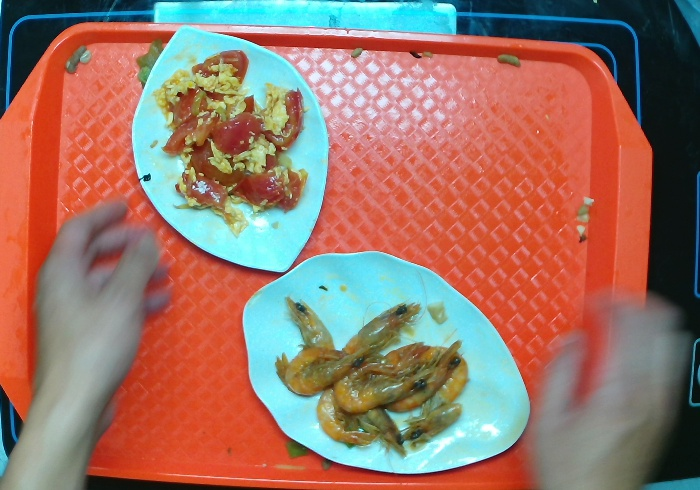RJxy-Bai_Ye_Pan: (230, 250, 538, 478)
RJxy-Da_Du_Pan: (124, 18, 336, 274)
